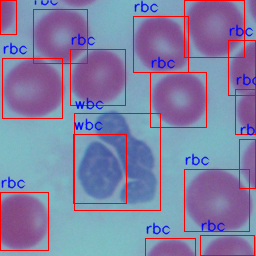rbc: (184, 169, 249, 231), (2, 58, 62, 118), (184, 0, 244, 57), (70, 49, 125, 105), (150, 72, 206, 127), (133, 16, 188, 72), (33, 9, 87, 63), (0, 192, 48, 250), (228, 40, 255, 95), (200, 235, 254, 255), (235, 89, 255, 134), (145, 238, 195, 256), (239, 139, 255, 188), (0, 0, 16, 34)
wbc: (74, 113, 160, 210), (73, 134, 126, 203)
